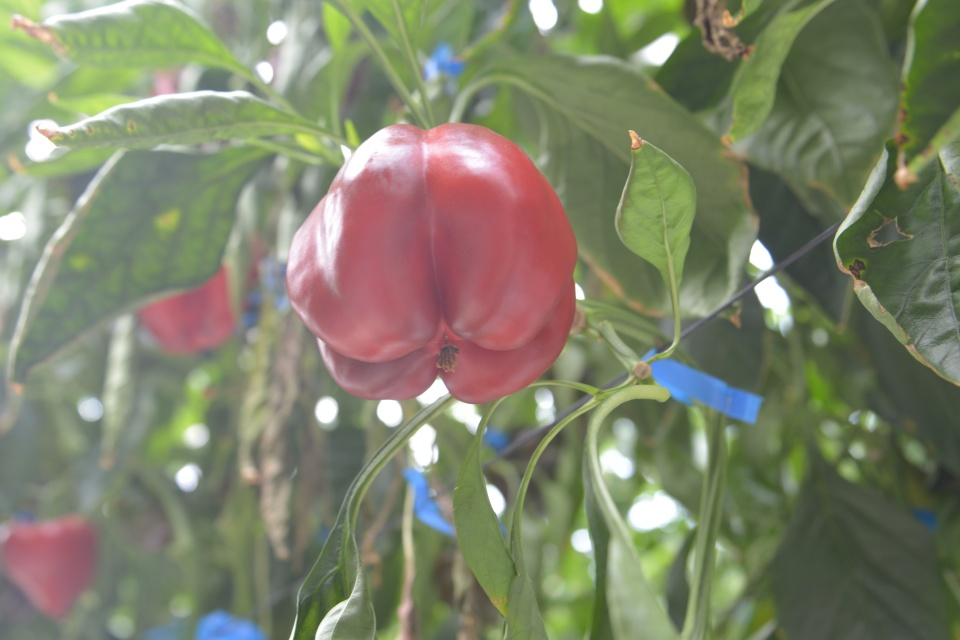fruit: (280, 114, 584, 405), (136, 229, 269, 356), (0, 512, 100, 622)
